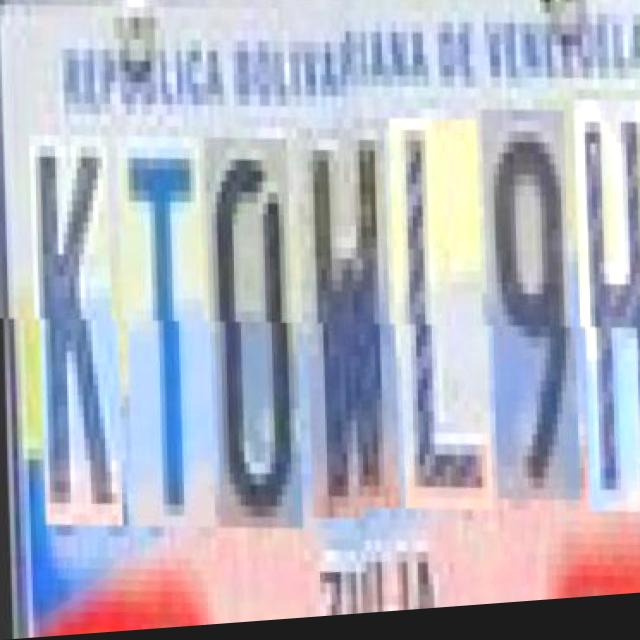0: (208, 131, 300, 532)
9: (485, 114, 578, 515)
h: (576, 104, 640, 525)
k: (34, 130, 120, 530)
l: (393, 123, 491, 524)
t: (120, 130, 212, 531)
w: (300, 122, 398, 523)
